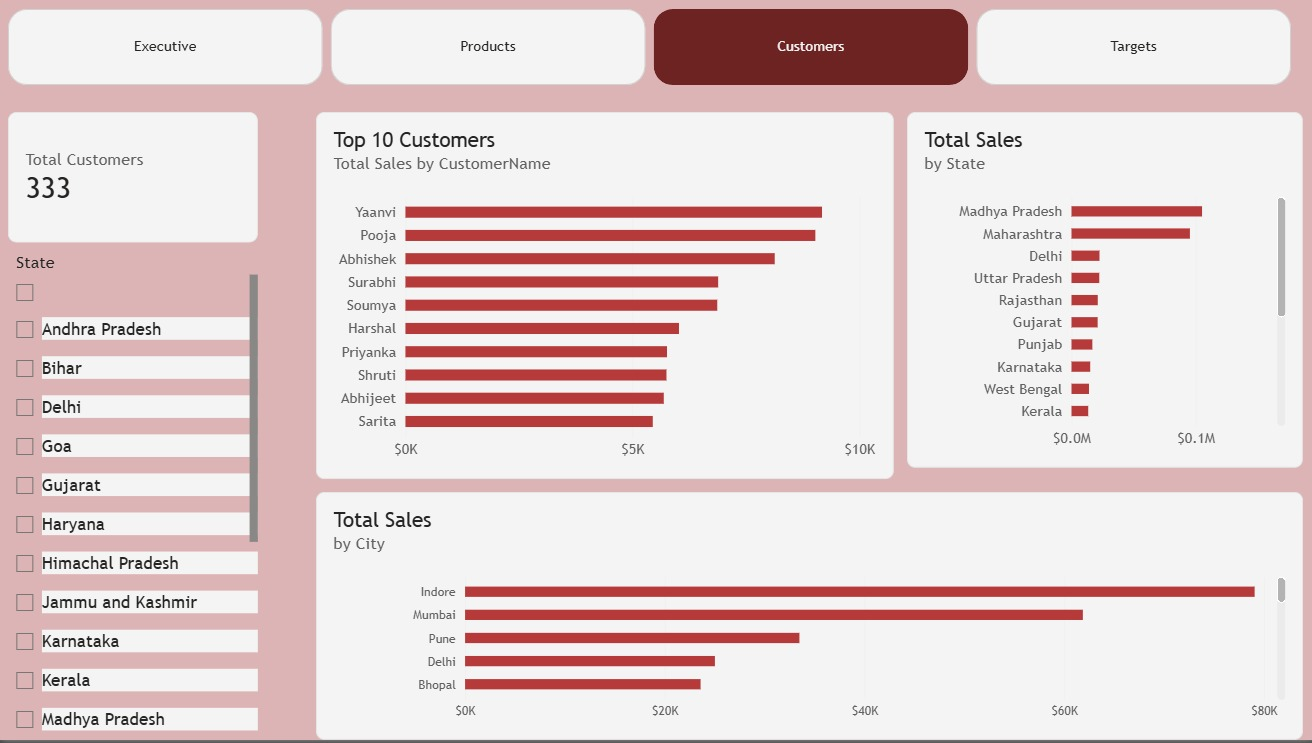

The page's visual inventory and layout, read from the dashboard file:
{"tool":"powerbi","page":{"name":"Customers","canvas":[1280,720],"ordinal":2},"visuals":[{"type":"cardVisual","fields":{"Data":["Calendar.Total Customers"]},"box":[9,108.5,243.1,127.4],"z":0},{"type":"clusteredBarChart","fields":{"Category":["List of Orders.State"],"Y":["Calendar.Total Sales"]},"box":[883.2,108.9,385.2,346.3],"z":1000},{"type":"clusteredBarChart","fields":{"Category":["List of Orders.City"],"Y":["Calendar.Total Sales"]},"box":[308.3,478.5,960,241.2],"z":2000},{"type":"slicer","fields":{"Values":["List of Orders.State"]},"box":[9,245.8,243.1,465.5],"z":3000},{"type":"clusteredBarChart","title":"Top 10 Customers","fields":{"Category":["List of Orders.CustomerName"],"Y":["Calendar.Total Sales"]},"box":[308.6,108.5,561.5,357],"z":4000},{"type":"pageNavigator","box":[9,9,1249.5,74.4],"z":5000}]}

Visuals, with their boxes in screenshot pixels (x1, y1, x2, y2), scaled from the page's 1280x720 canvas onto the 1312x743 screenshot:
cardVisual - Calendar.Total Customers: left=9, top=112, right=258, bottom=243
clusteredBarChart - List of Orders.State x Calendar.Total Sales: left=905, top=112, right=1300, bottom=470
clusteredBarChart - List of Orders.City x Calendar.Total Sales: left=316, top=494, right=1300, bottom=742
slicer - List of Orders.State: left=9, top=254, right=258, bottom=734
"Top 10 Customers" clusteredBarChart: left=316, top=112, right=892, bottom=480
pageNavigator: left=9, top=9, right=1290, bottom=86
